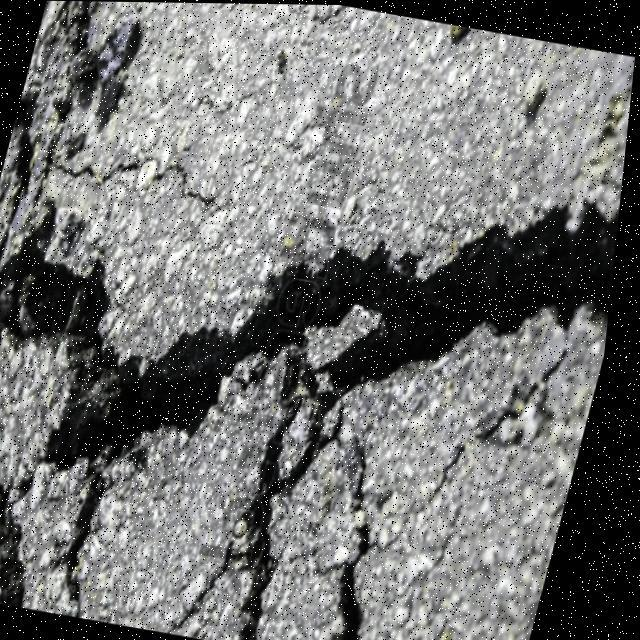branched cracks: (0, 93, 616, 639), (340, 515, 369, 639), (101, 158, 150, 181), (352, 439, 364, 512)
